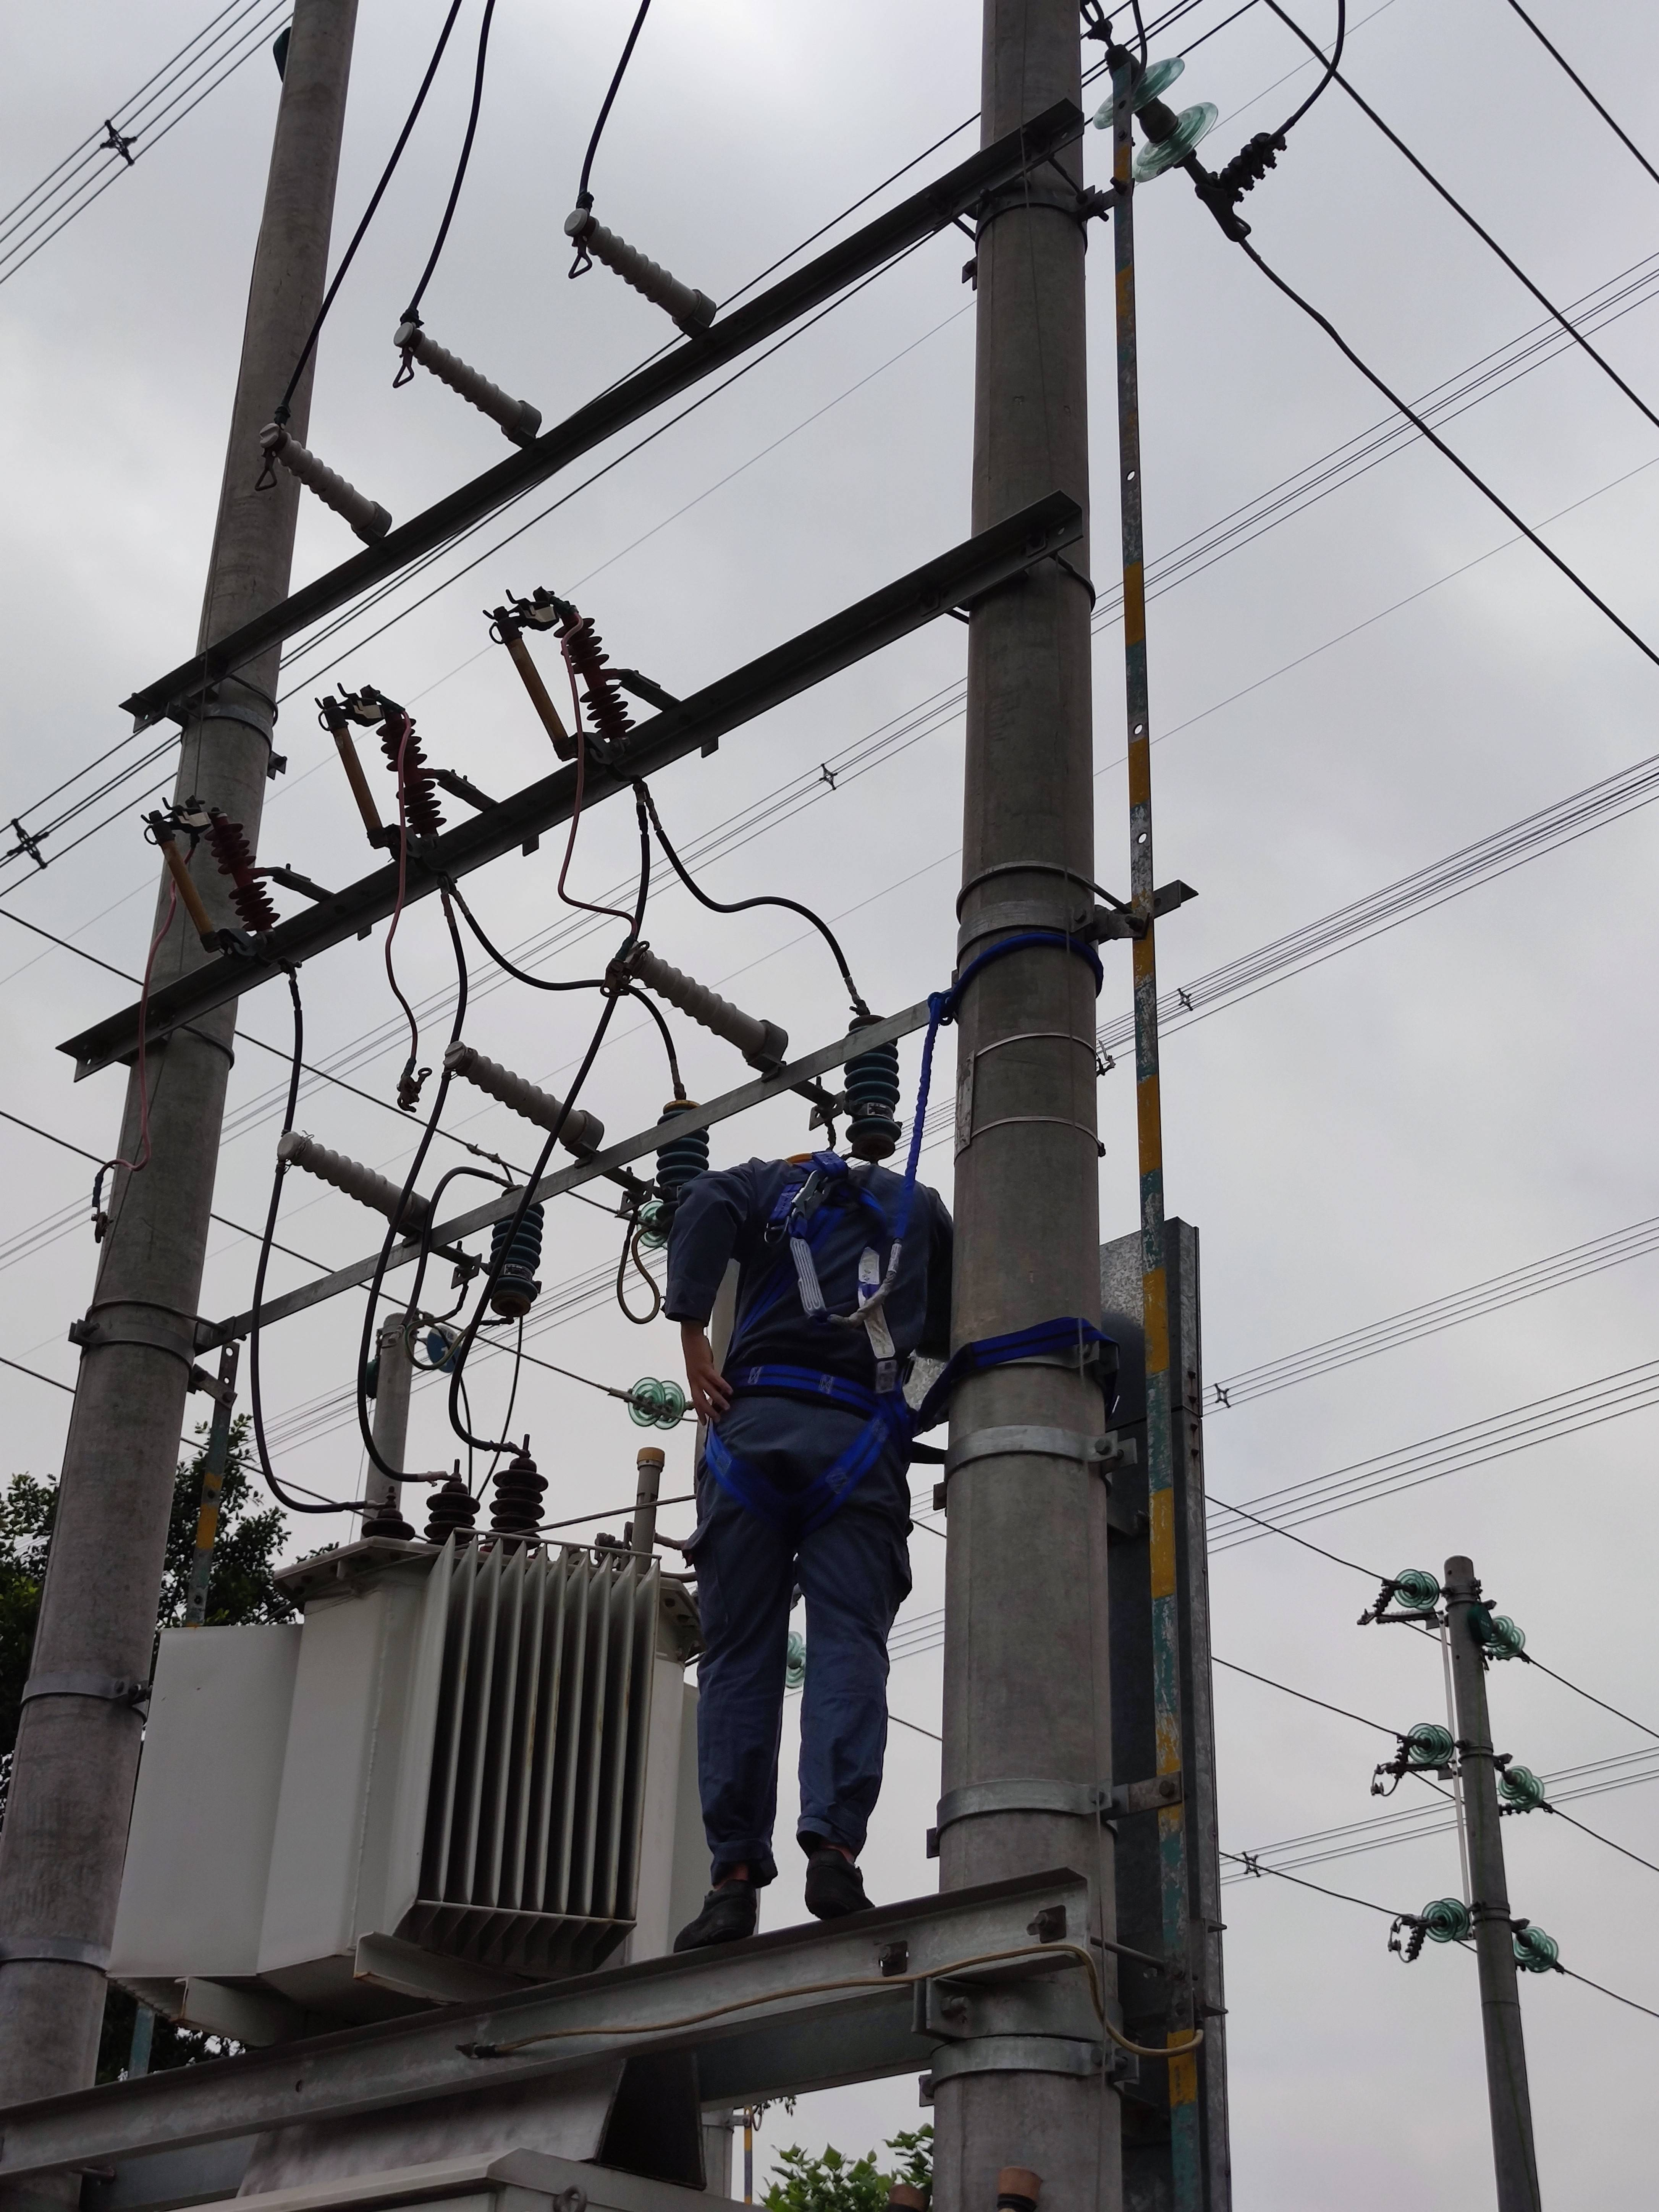downsuit: (653, 1465, 908, 1858)
upsuit: (671, 1160, 943, 1413)
